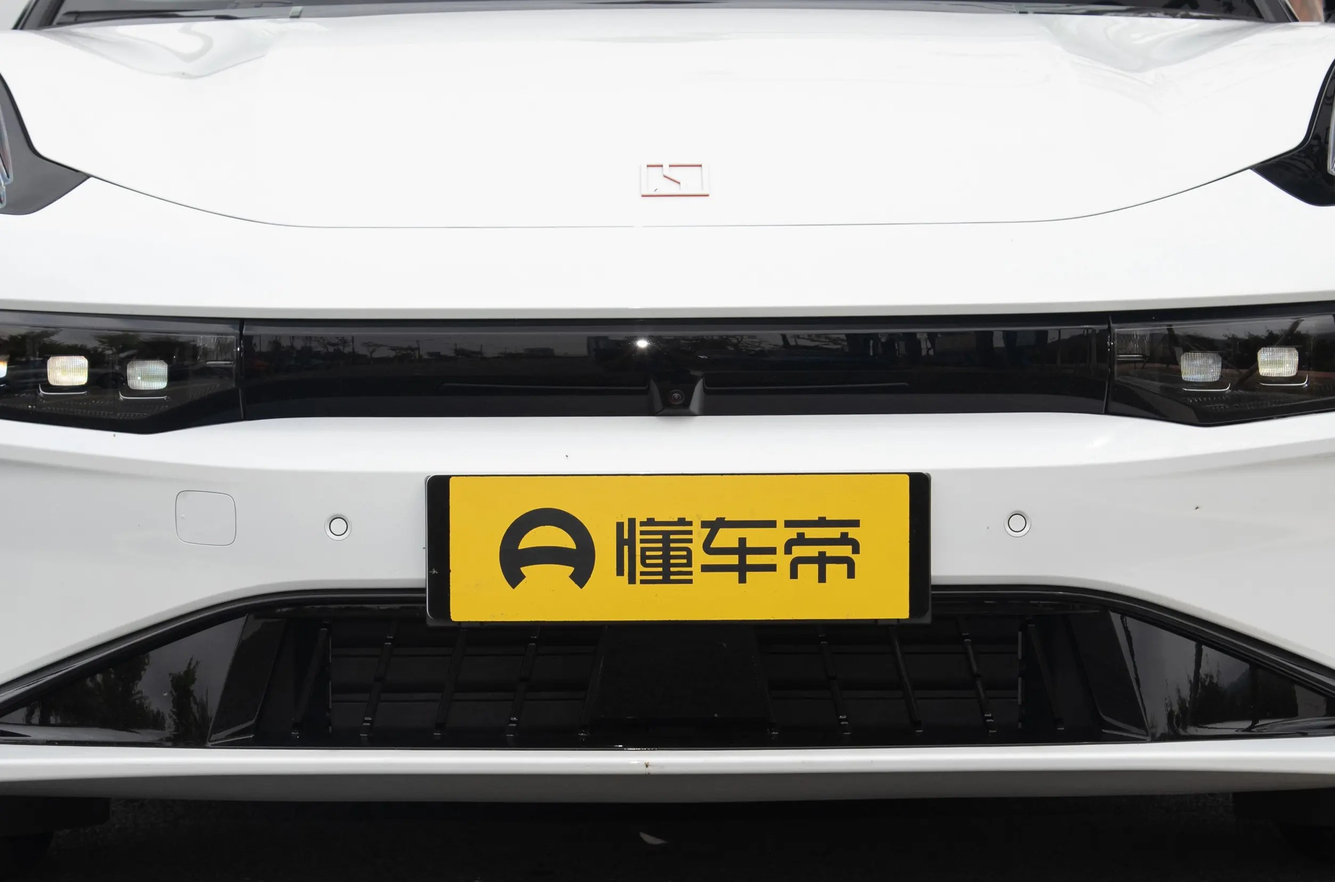ZEEKR: (641, 159, 708, 195)
